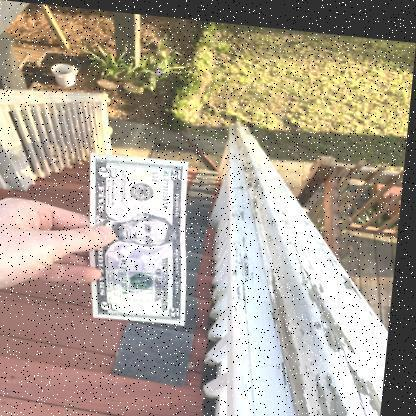five-front: (93, 151, 192, 321)
